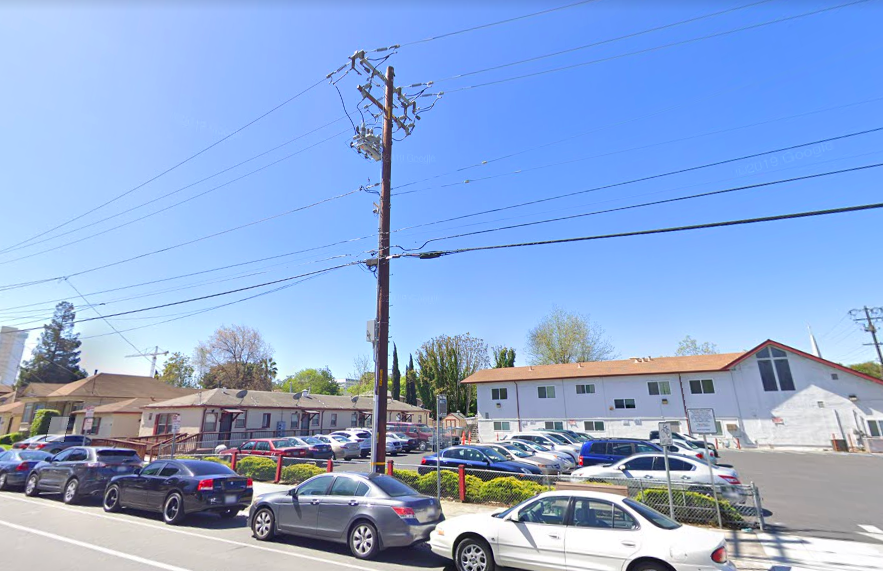utility_pole: (325, 33, 447, 190)
